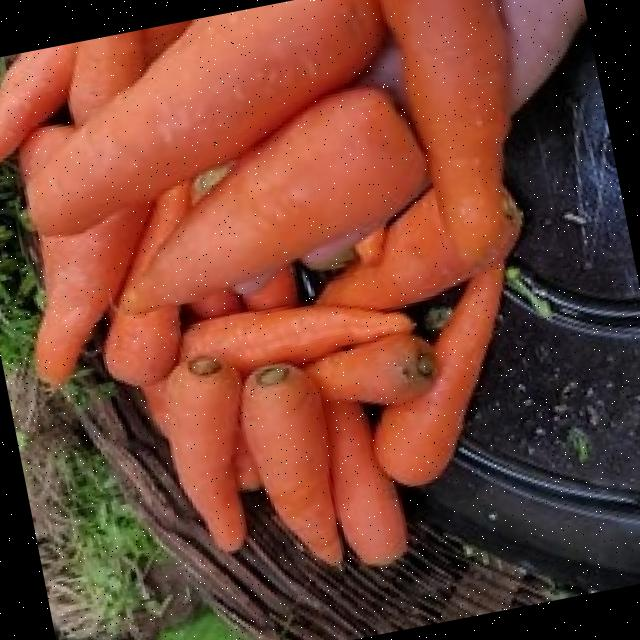carrot: (0, 0, 567, 565)
